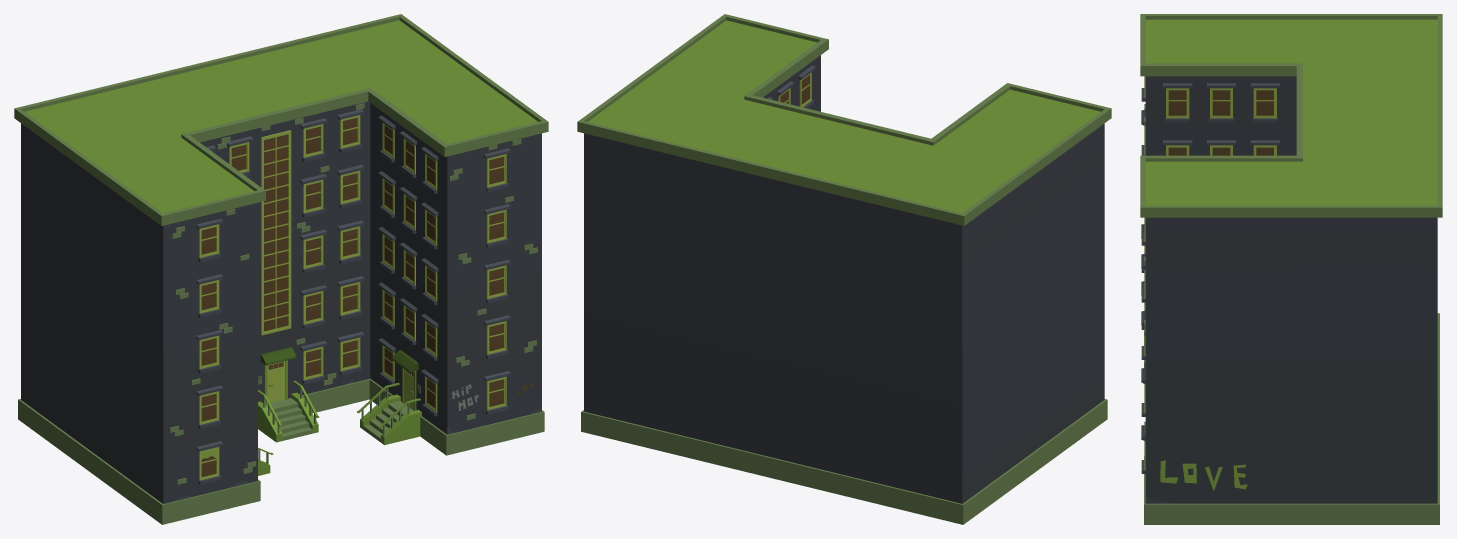
The model's file is OldHouse_03.fbx.
3 renders of one model, left to right at view 1: azimuth 30°, elevation 25°; view 2: azimuth 150°, elevation 25°; view 3: azimuth 270°, elevation 25°, orthographic. The views are drawn at different scales.
Visible parts, largest first — view 1: OldHouse_03; view 2: OldHouse_03; view 3: OldHouse_03.
Boxes of the visible parts, x1,y1,x2,y2 form: OldHouse_03: [14, 14, 548, 524]; OldHouse_03: [577, 14, 1111, 524]; OldHouse_03: [1140, 14, 1442, 524].
Bounding box in the file's own units: 20.44 × 15.68 × 13.49.
